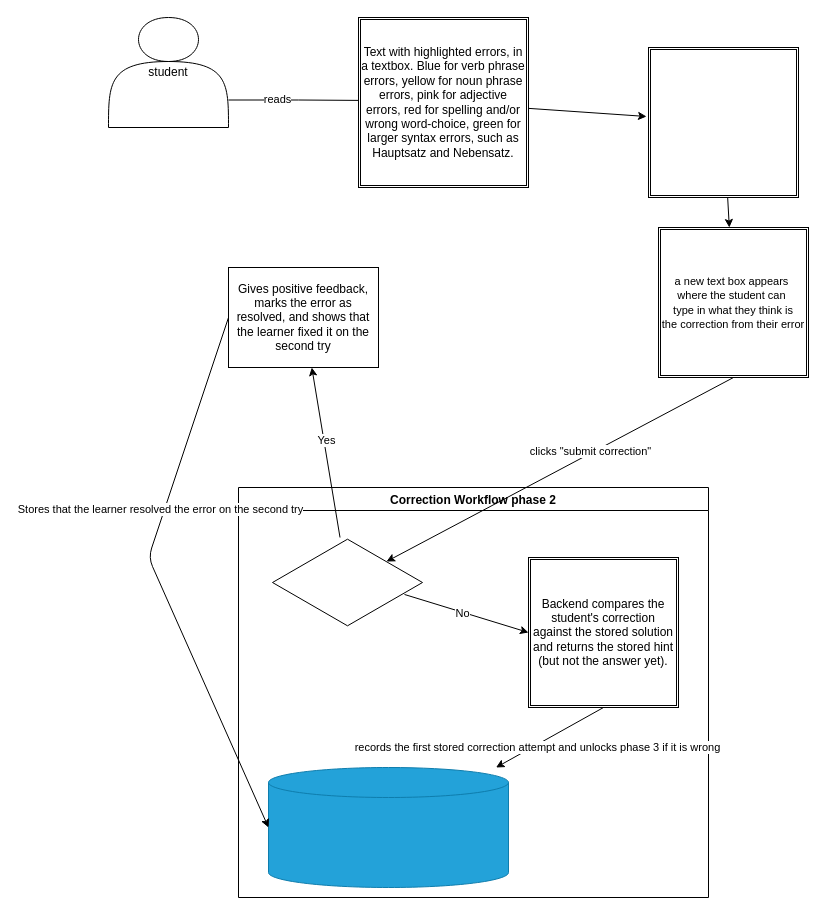
Image size: 826x915. Some labels were removed from this diagram. Each missing label, with the centre of its shape:
clicks on a highlighted area: (723,122)
Is student's guess correct?: (347,582)
postgres [Container: ] collects errors from student: (388,827)
